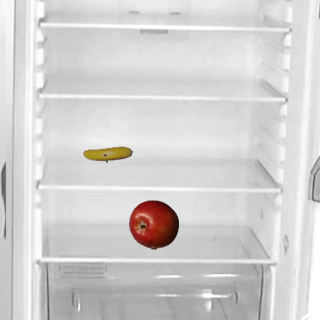Apple Braeburn: (128, 199, 178, 249)
Banana: (82, 129, 132, 179)
